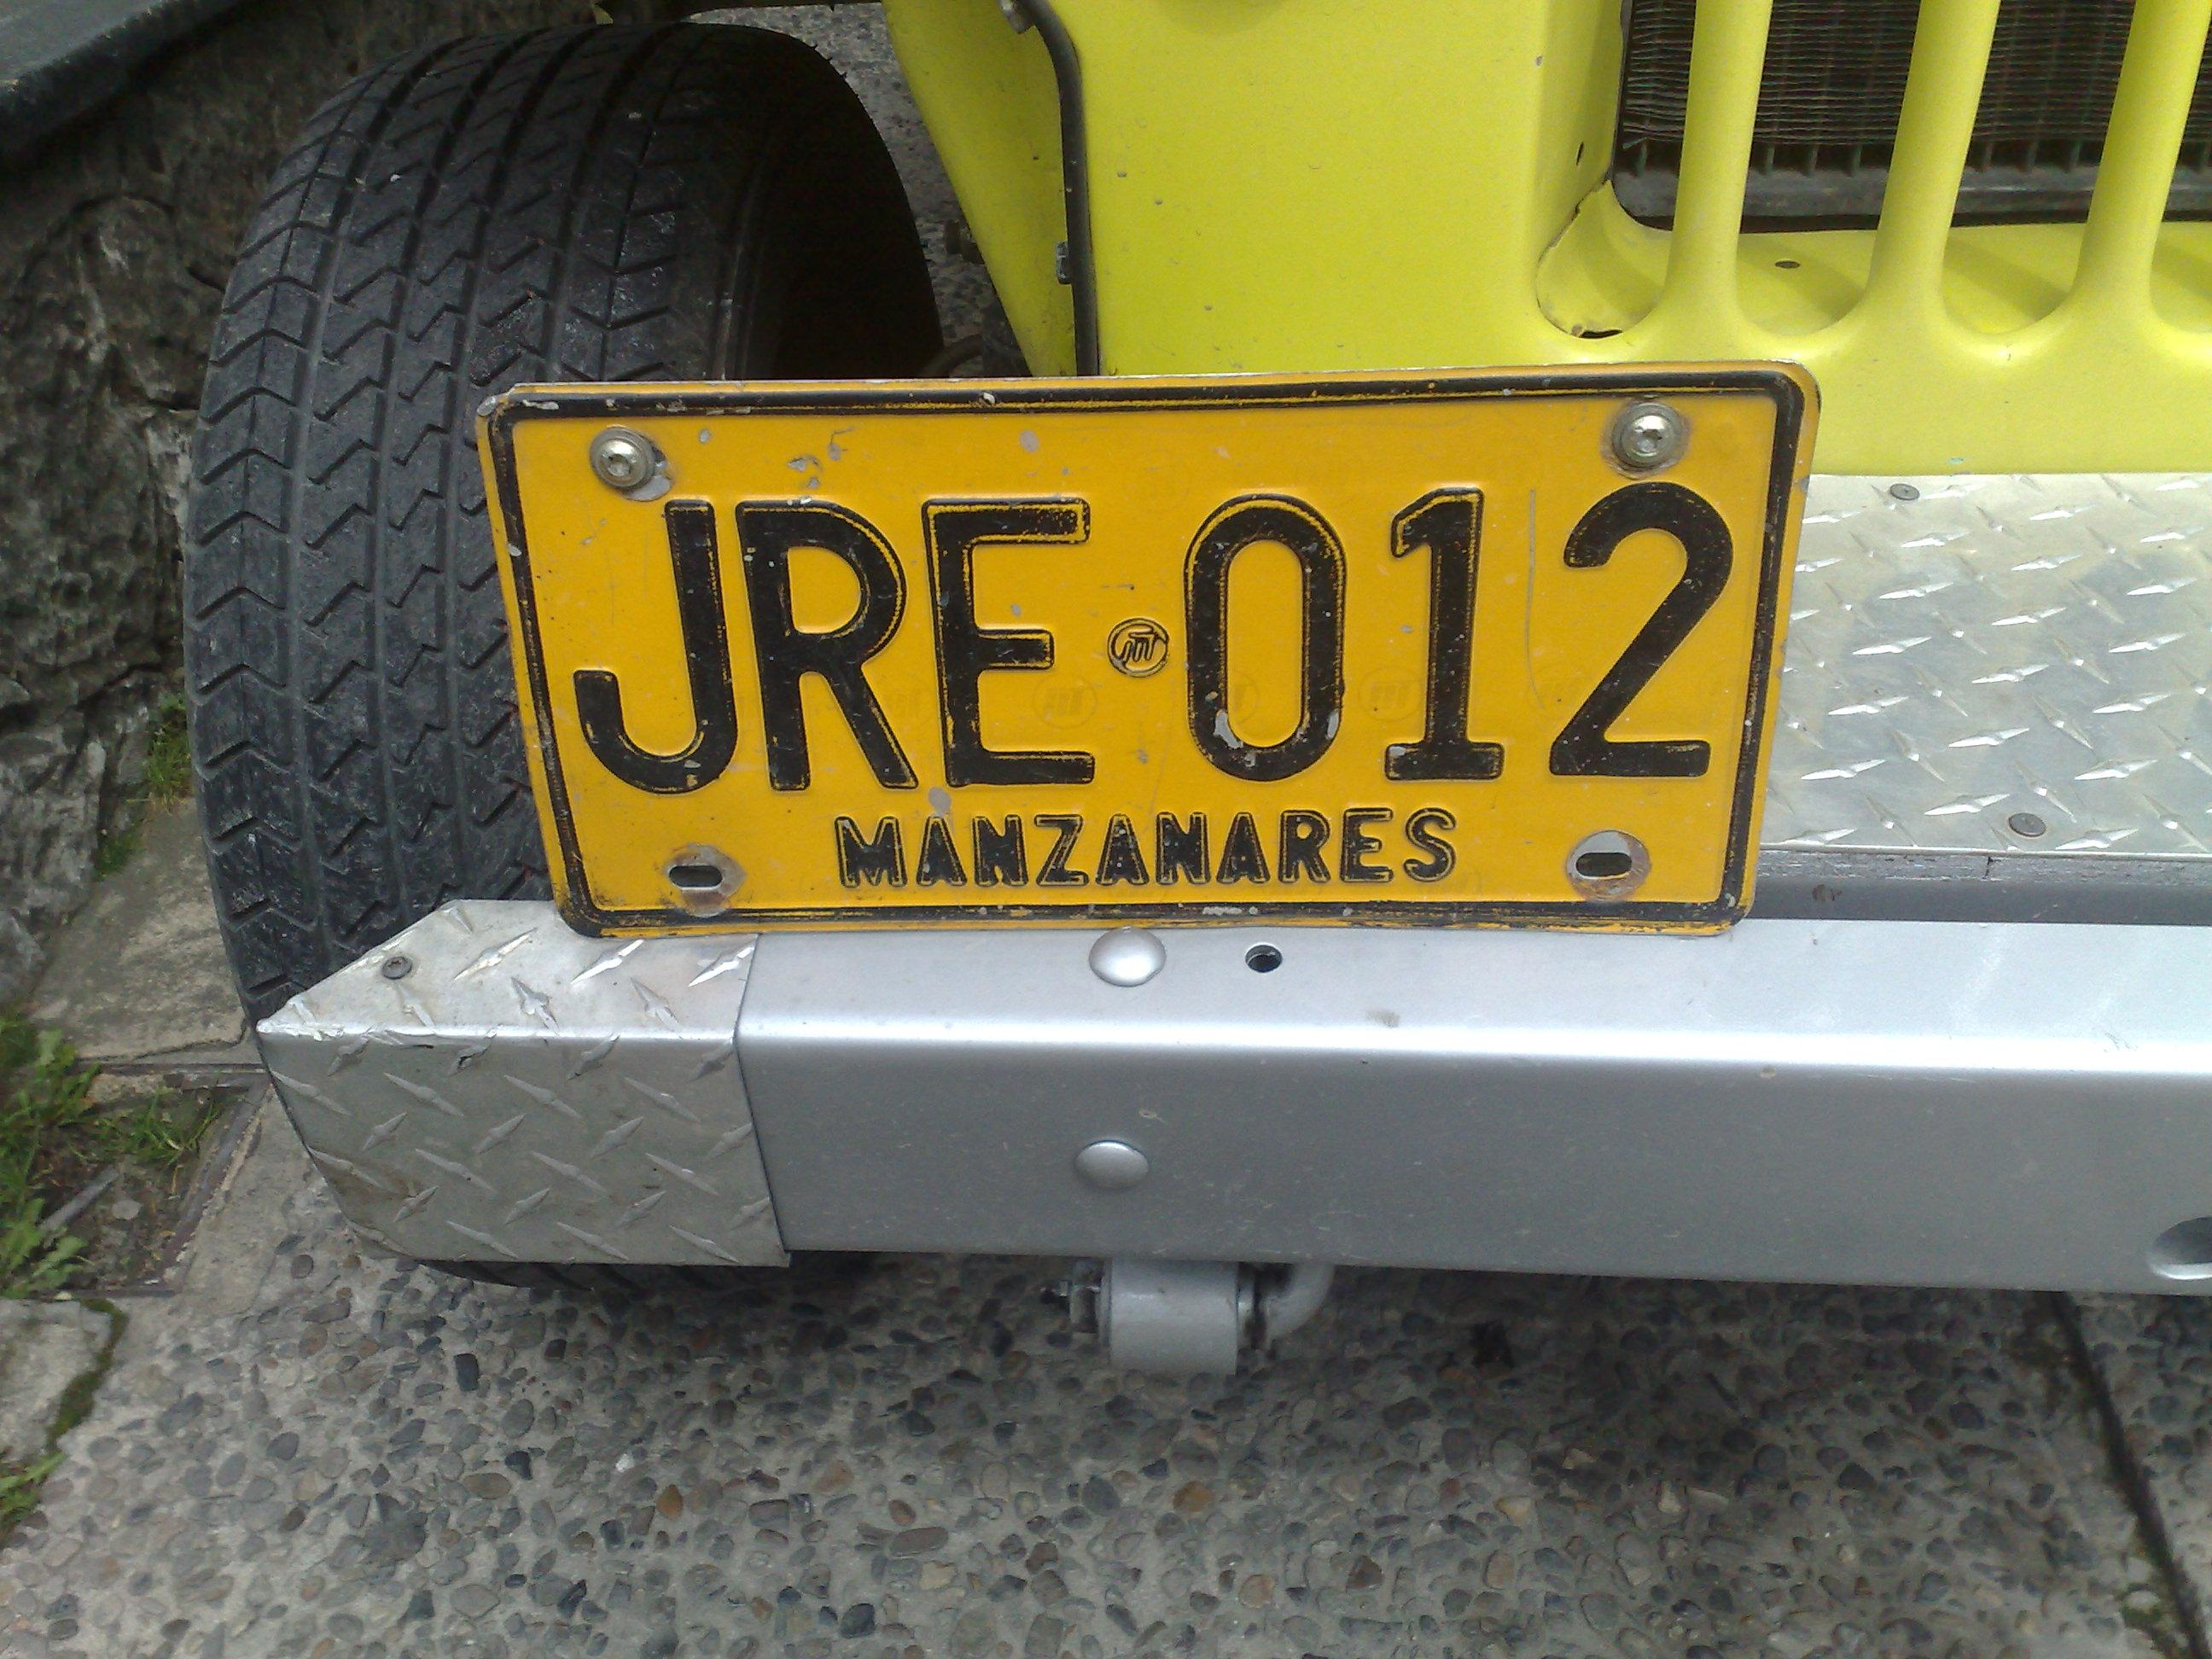placas: (466, 348, 1825, 943)
